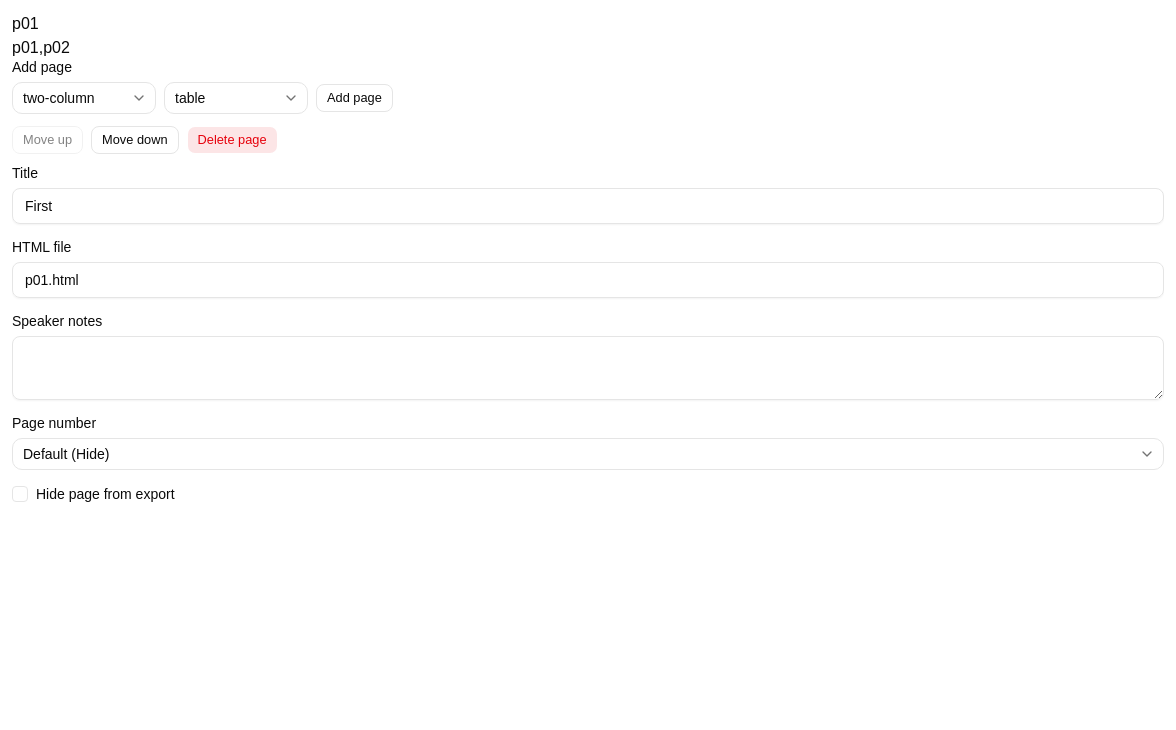
it: workshop page lifecycle › adds a overview page and shows its editor
This screenshot has width=1176, height=730.
Click the dropdown named "Add page": {"x": 84, "y": 98} [12,82,156,114]
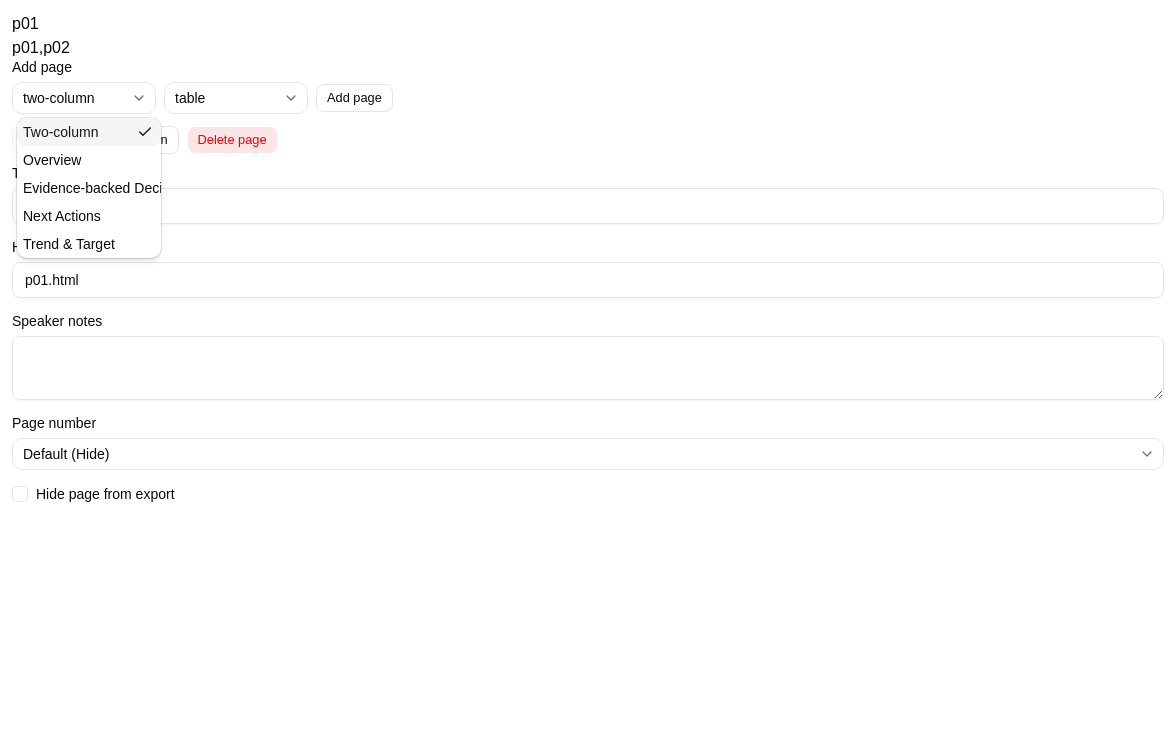
Click the option "Overview": {"x": 52, "y": 160} [23,152,81,168]
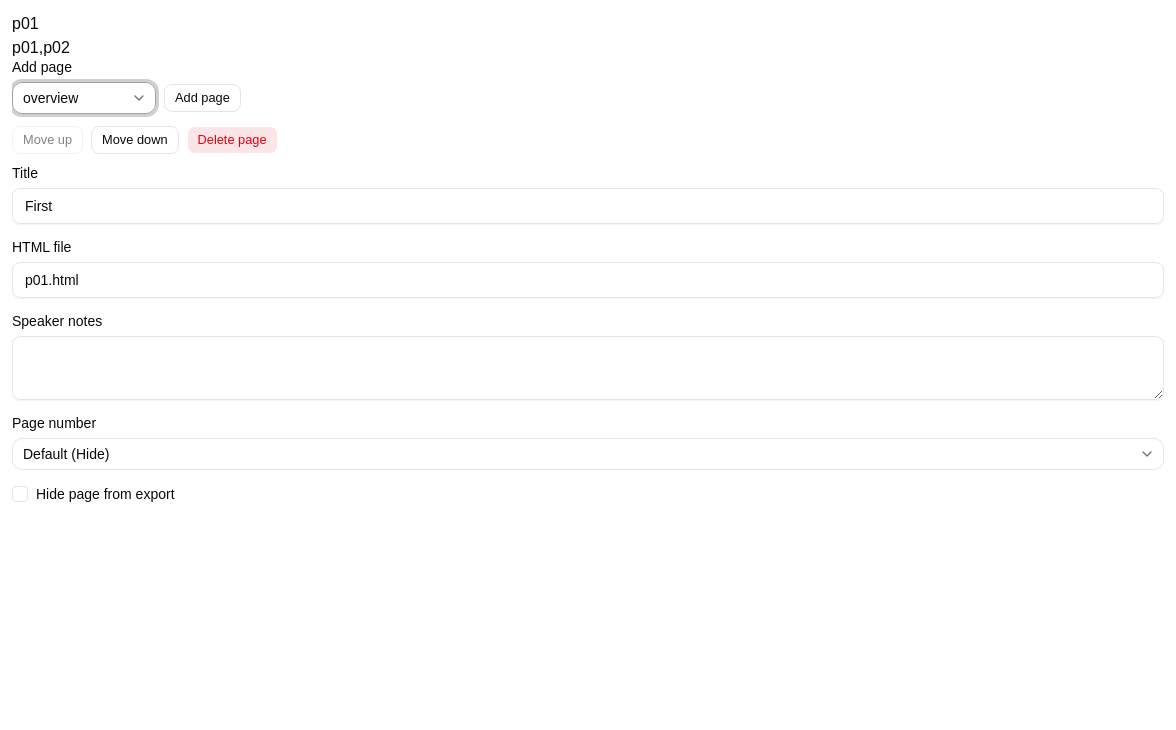
Click the button "Add page": {"x": 202, "y": 98} [164,84,241,112]
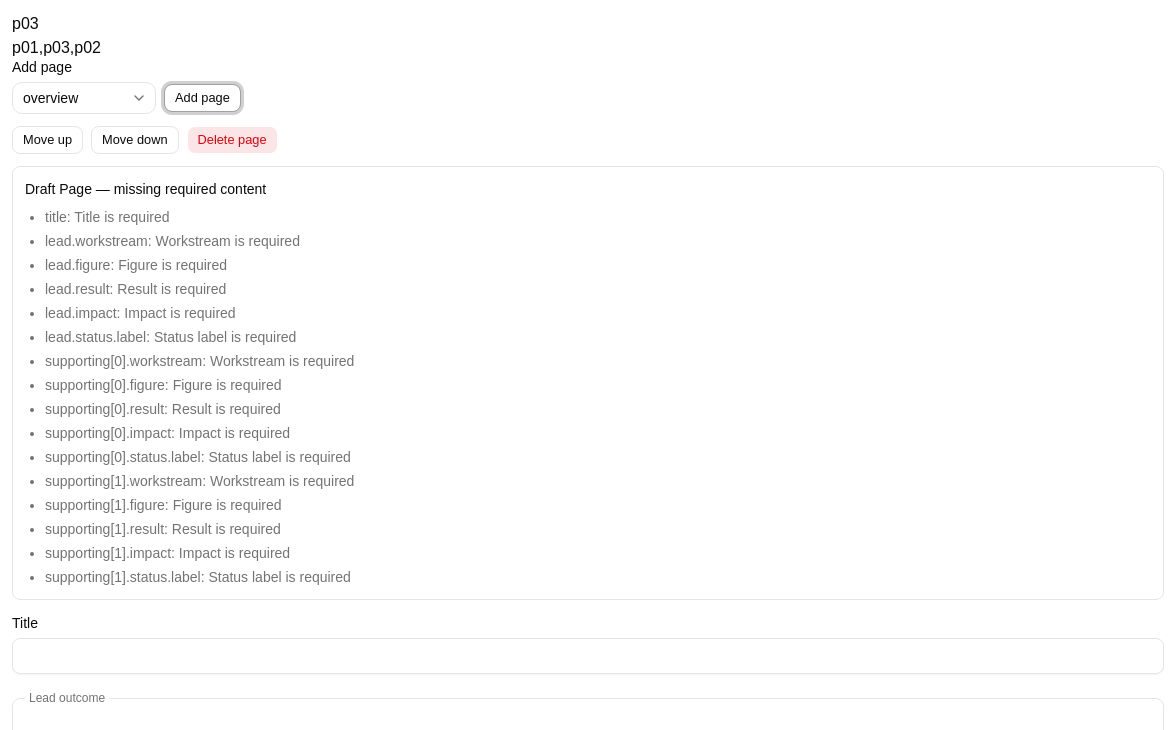
Expected: the text with test id "page-ids" reads "p01,p03,p02", [12,39,101,56]
Expected: the message shows "Draft Page — missing required content", [25,181,266,197]
Expected: the text "Lead outcome" is shown, [25,690,109,706]
